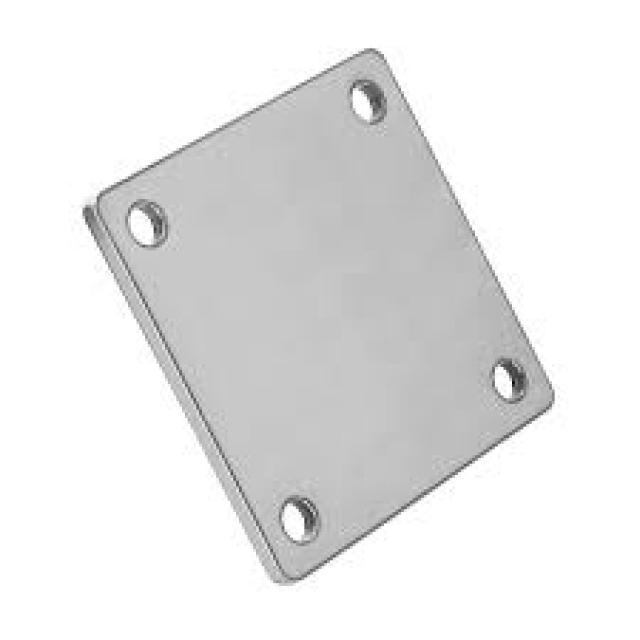holes: (125, 196, 168, 247), (279, 495, 319, 543), (347, 77, 387, 122), (489, 356, 526, 401)
